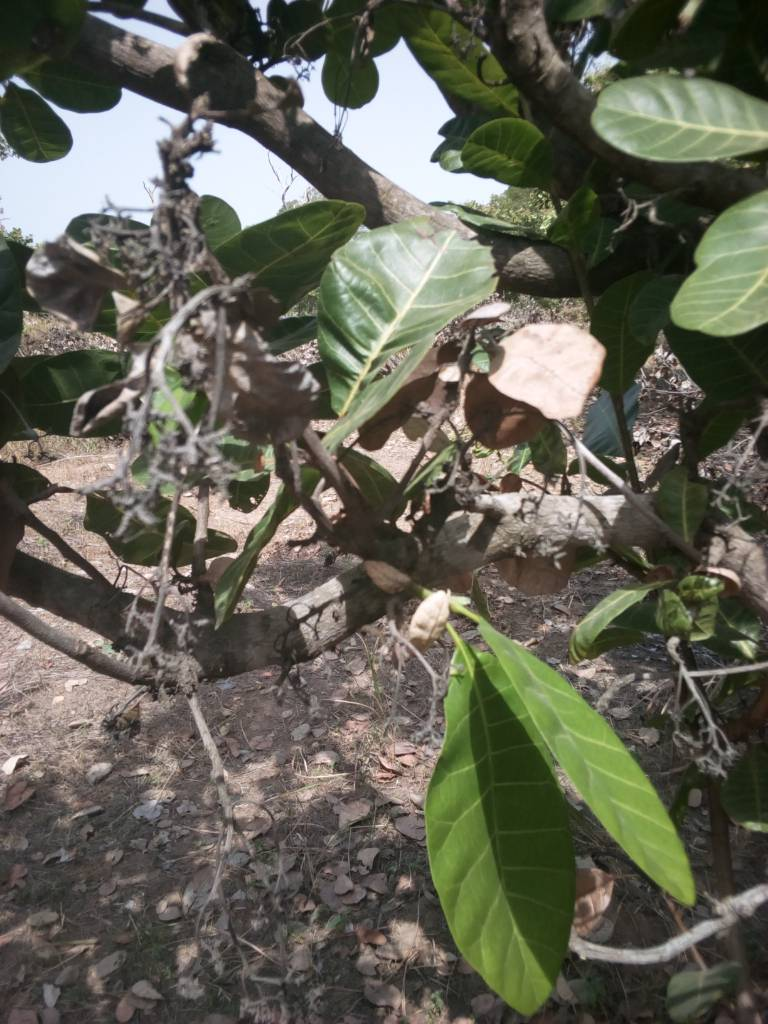Dessèchement des bourgeons: (105, 372, 243, 752), (110, 105, 215, 316)
